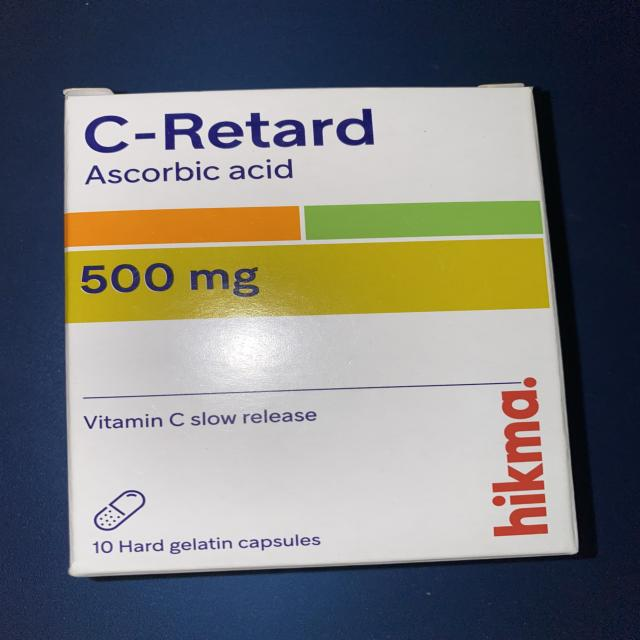C-Retard: (46, 61, 608, 568)
